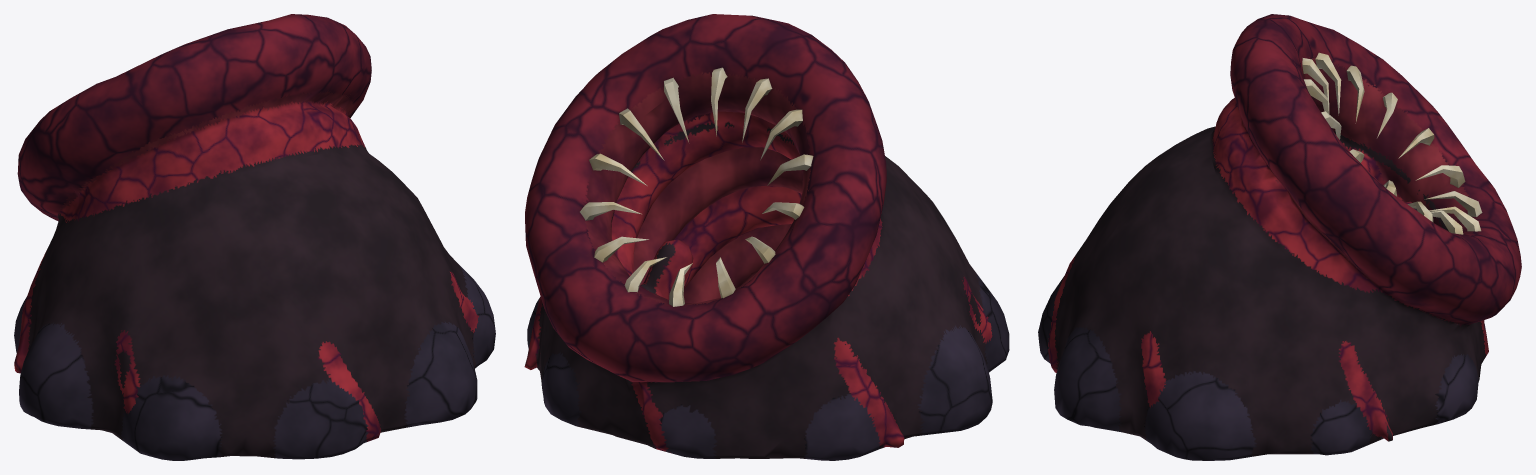
Rendered from tunel_lombriz.fbx.
3 renders of one model, left to right at view 1: azimuth 30°, elevation 25°; view 2: azimuth 150°, elevation 25°; view 3: azimuth 270°, elevation 25°, orthographic. The views are drawn at different scales.
Parts seen in each view (by area): view 1: tunel; view 2: tunel; view 3: tunel.
Part boxes in pixels (box(x1,y1,x2,y2)): tunel: box(14, 14, 495, 460); tunel: box(524, 14, 1009, 460); tunel: box(1038, 14, 1521, 460).
Size of the model in its own units: 4.01 by 3 by 4.01.
Materials: 1 (1 with a texture image).
